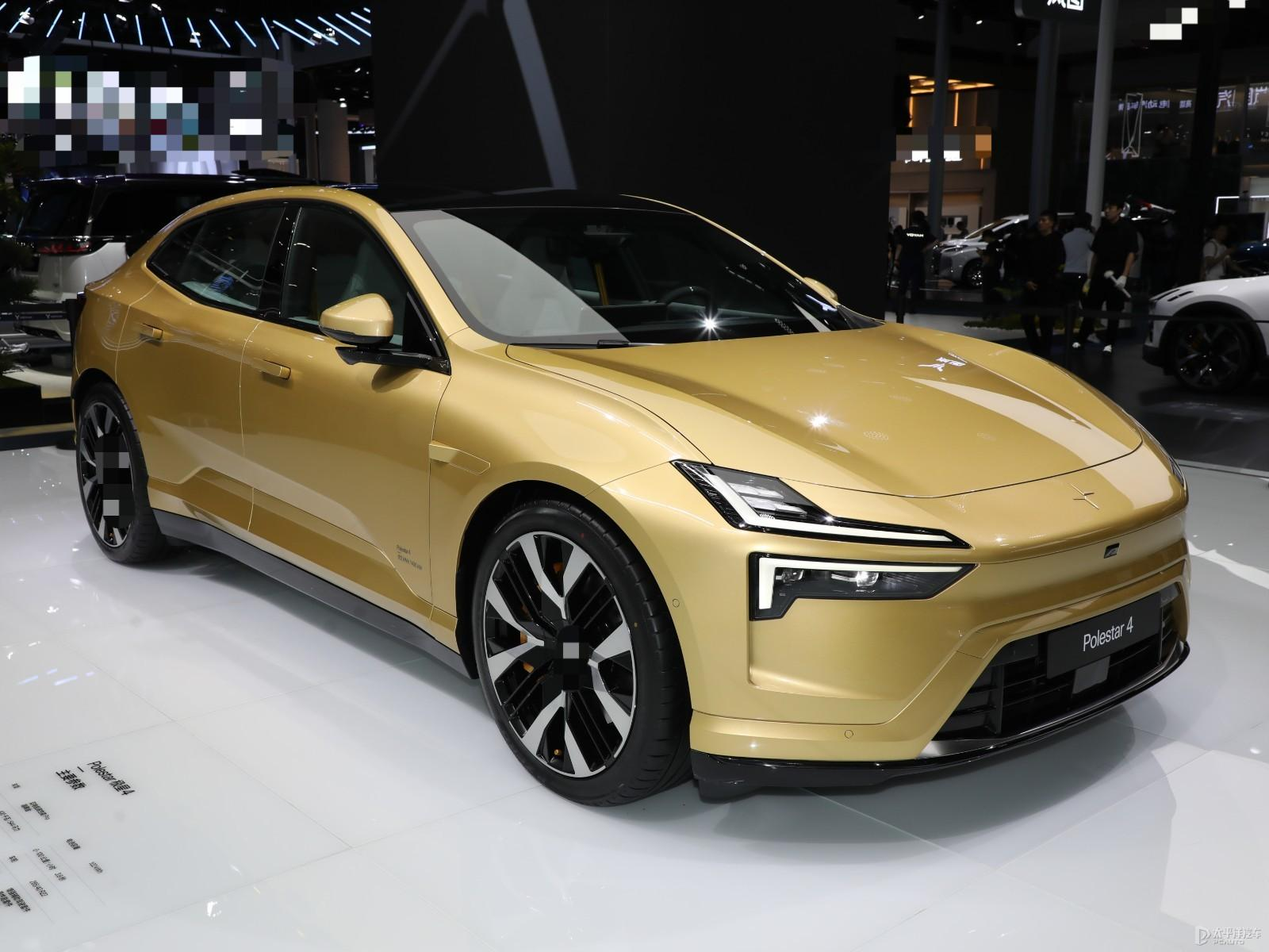Polestar: (1071, 484, 1098, 509)
